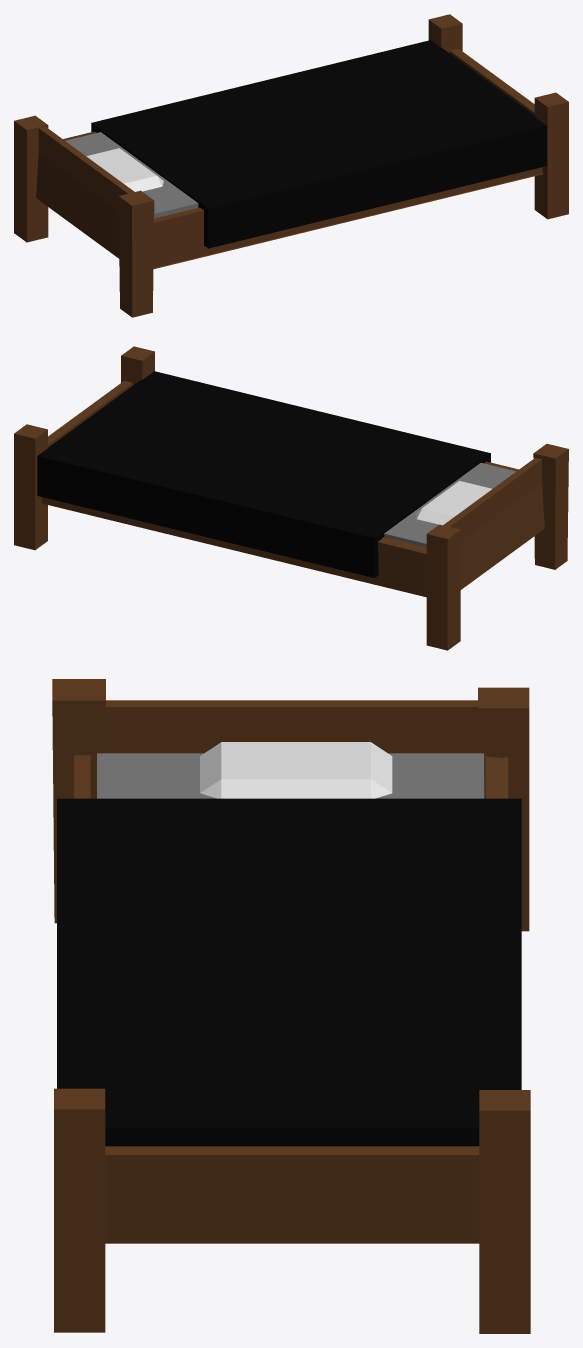
The model's file is cama.fbx.
3 renders of one model, top to bottom at view 1: azimuth 30°, elevation 25°; view 2: azimuth 150°, elevation 25°; view 3: azimuth 270°, elevation 25°, orthographic. The views are drawn at different scales.
Parts seen in each view (by area): view 1: Cube.007, Cube.002, Cube.001, Cube.006; view 2: Cube.007, Cube.002, Cube.001, Cube.006; view 3: Cube.007, Cube.002, Cube.006, Cube.001.
Boxes of the visible parts, x1,y1,x2,y2 form: Cube.007: [91, 40, 546, 248]; Cube.002: [14, 14, 568, 317]; Cube.001: [65, 132, 198, 218]; Cube.006: [86, 148, 163, 191]; Cube.007: [37, 371, 490, 577]; Cube.002: [14, 346, 568, 650]; Cube.001: [384, 463, 515, 547]; Cube.006: [415, 481, 491, 525]; Cube.007: [57, 798, 521, 1146]; Cube.002: [52, 679, 530, 1333]; Cube.006: [200, 742, 392, 798]; Cube.001: [97, 753, 484, 798].
Size of the model in its own units: 612 by 154 by 291.
